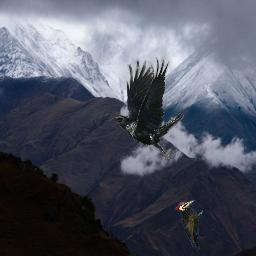Crow: (110, 56, 184, 163)
Woodpecker: (174, 200, 203, 250)
